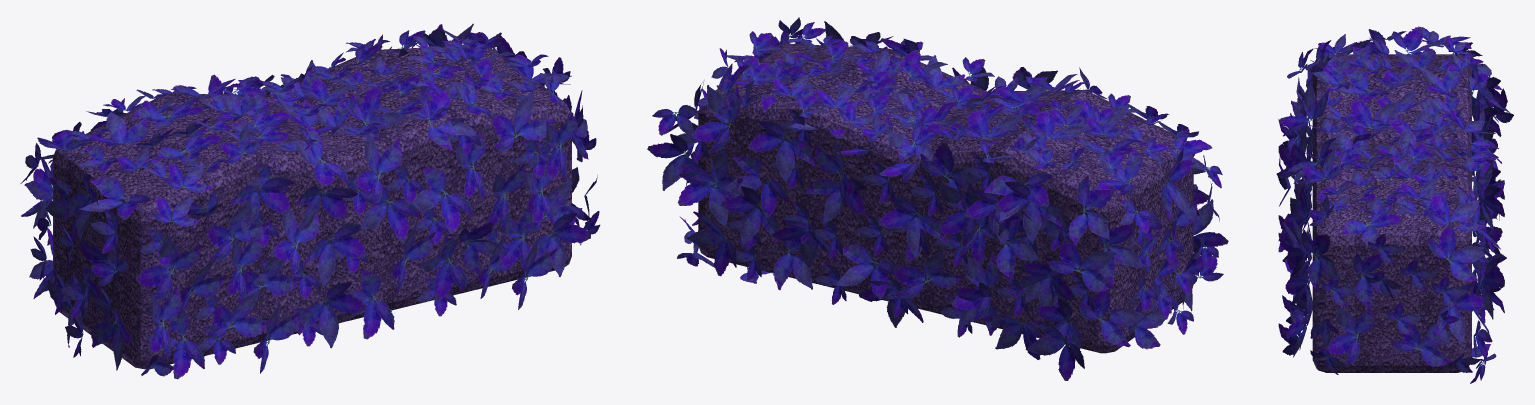
Rendered from GardenShrub.fbx.
3 renders of one model, left to right at view 1: azimuth 30°, elevation 25°; view 2: azimuth 150°, elevation 25°; view 3: azimuth 270°, elevation 25°, orthographic. The views are drawn at different scales.
Visible parts, largest first — view 1: GardenShrub; view 2: GardenShrub; view 3: GardenShrub.
Boxes of the visible parts, <box> form: GardenShrub: <box>20,23,600,379</box>; GardenShrub: <box>647,17,1228,380</box>; GardenShrub: <box>1276,26,1513,383</box>.
Bounding box in the file's own units: 256 × 119 × 124.
